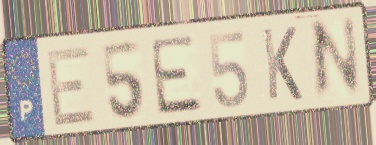5: (99, 37, 147, 122), (206, 27, 251, 110)
E: (148, 32, 206, 119), (44, 42, 98, 130)
K: (259, 24, 305, 103)
N: (308, 13, 364, 105)
